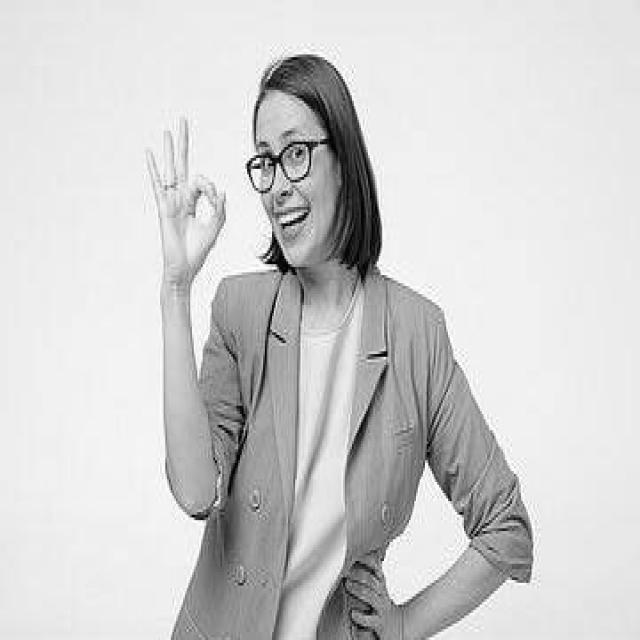perfect: (140, 109, 232, 298)
